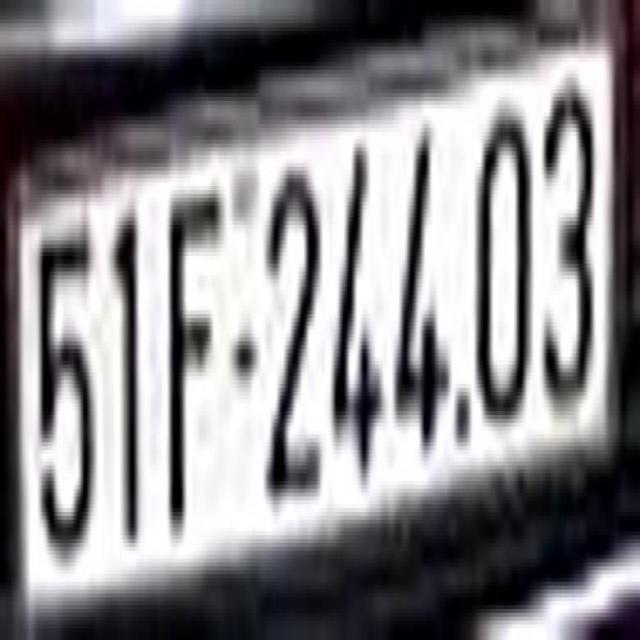0: (473, 96, 532, 438)
1: (112, 194, 146, 570)
2: (263, 166, 322, 508)
3: (542, 70, 596, 412)
4: (391, 128, 454, 481), (335, 136, 383, 500)
5: (32, 221, 98, 555)
F: (162, 178, 224, 547)
